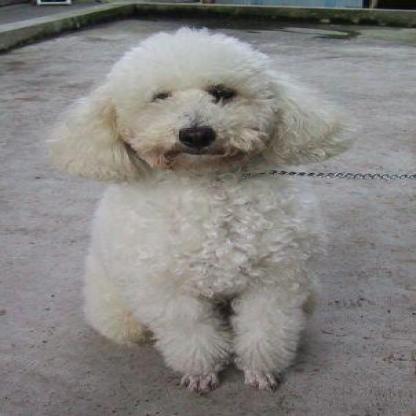miniature_poodle: (46, 24, 352, 394)
